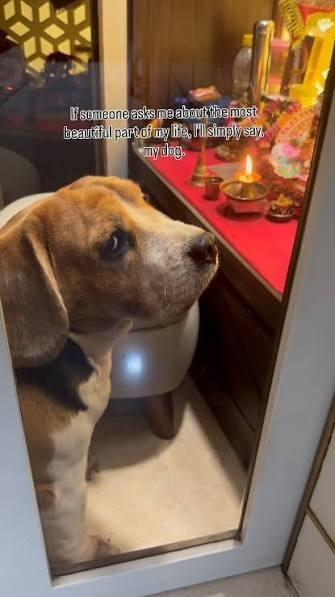adult_dog: (0, 176, 222, 573)
